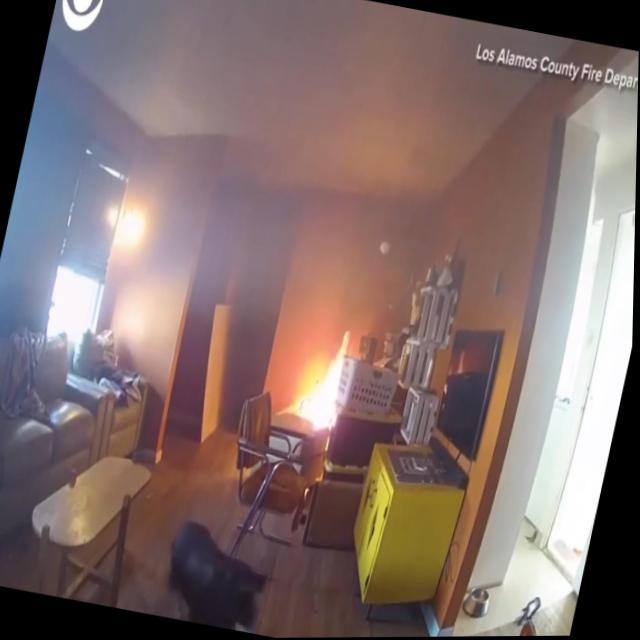fire: (291, 309, 362, 434)
